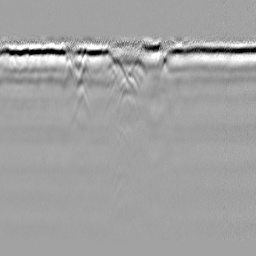cavity: (115, 76, 142, 116)
